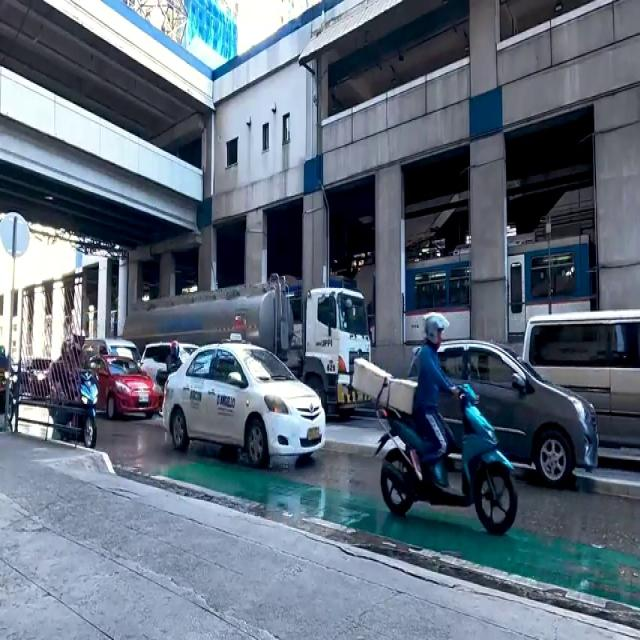car: (432, 330, 598, 492), (168, 344, 324, 473), (529, 306, 640, 452), (94, 353, 157, 415), (98, 359, 151, 415)
motorcycle: (382, 318, 508, 548), (42, 339, 101, 442)
truck: (137, 281, 371, 425)
